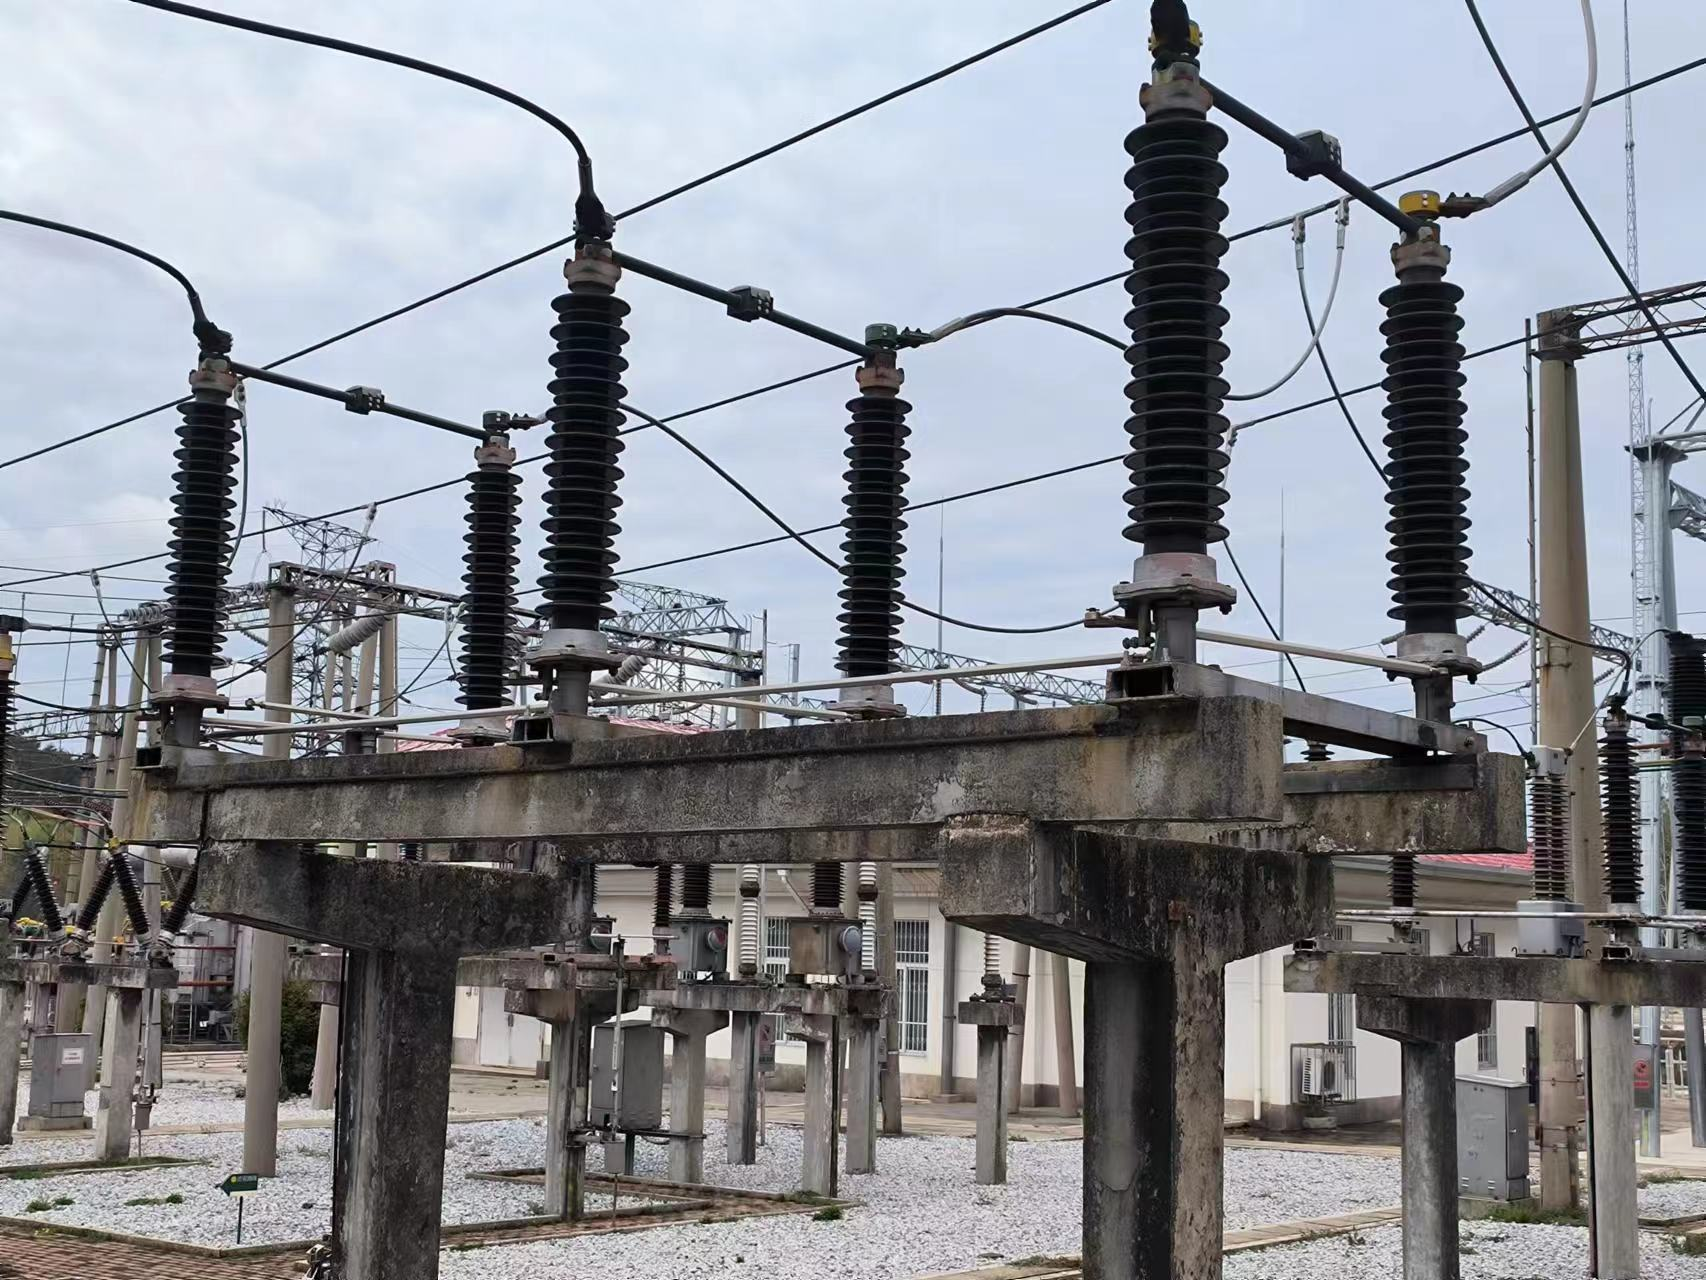Disconnecting link: (1114, 19, 1519, 690), (528, 199, 954, 707), (147, 325, 520, 748)
